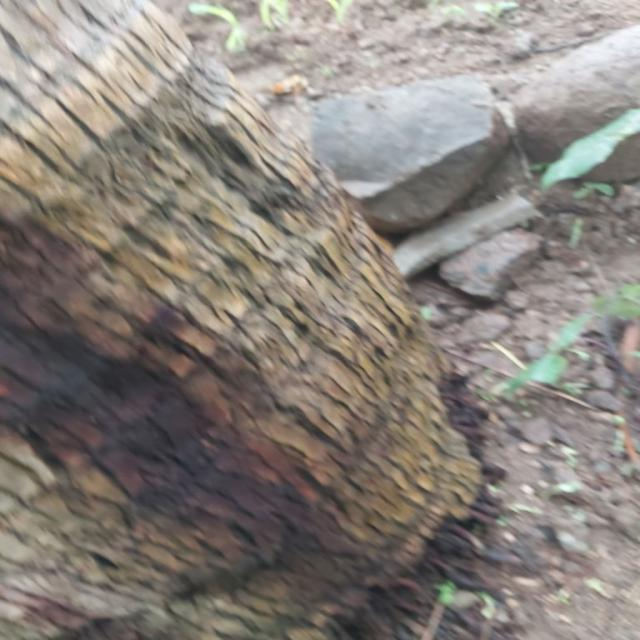stembleeding: (0, 227, 399, 610)
